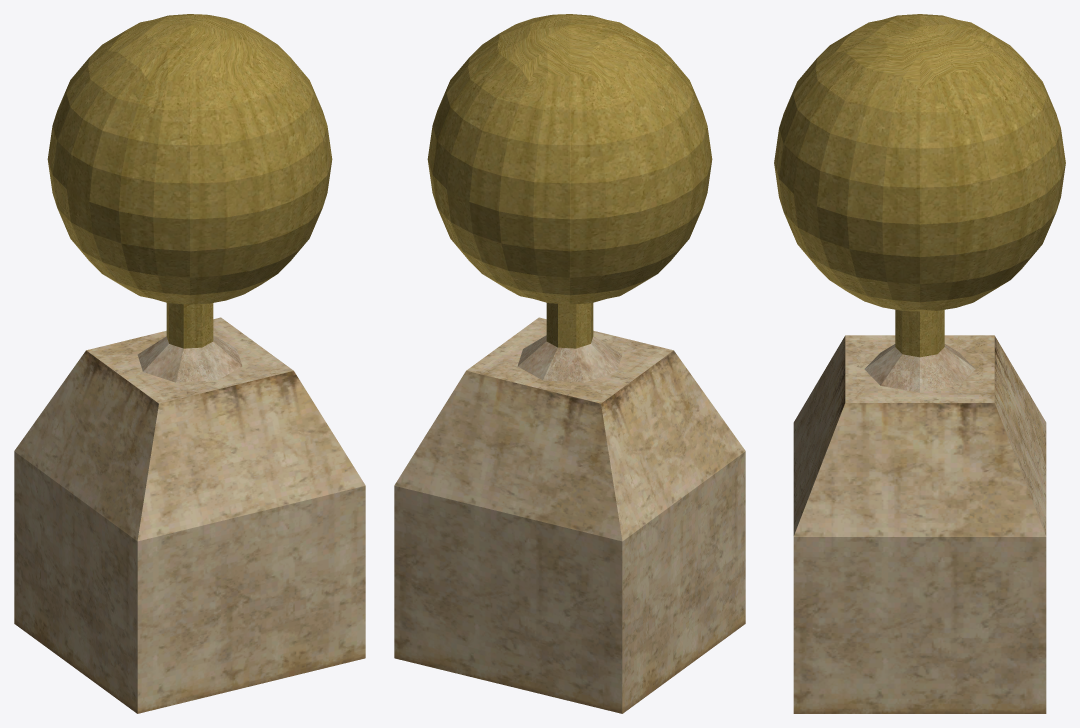
Rendered from thm_tato_guild_golden_ball_freestand_s01_l0.fbx.
The picture shows the model from 3 angles, left to right: view 1: azimuth 30°, elevation 25°; view 2: azimuth 150°, elevation 25°; view 3: azimuth 270°, elevation 25°; orthographic projection. The views are drawn at different scales.
Parts seen in each view (by area): view 1: mesh_node; view 2: mesh_node; view 3: mesh_node.
Boxes of the visible parts, box(x1,y1,x2,y2) form: mesh_node: box(14, 14, 365, 713); mesh_node: box(394, 14, 745, 713); mesh_node: box(774, 14, 1065, 713).
Bounding box in the file's own units: 3.46 × 8.26 × 3.46.
Materials: 3 (3 with a texture image).
